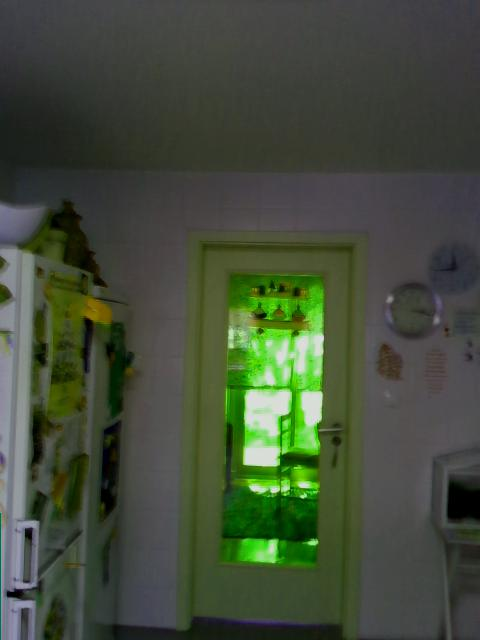closed_door: (177, 228, 366, 638)
